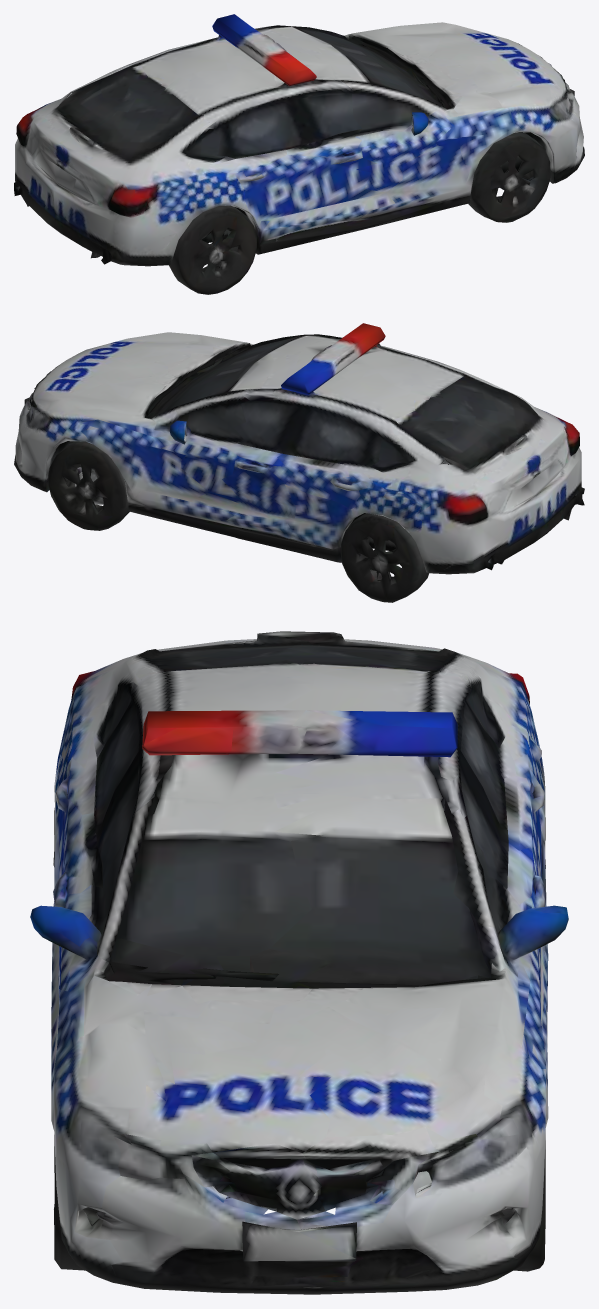
Rendered from police.glb.
3 views of the same model, one above another, from view 1: azimuth 30°, elevation 25°; view 2: azimuth 150°, elevation 25°; view 3: azimuth 270°, elevation 25° (orthographic). The views are drawn at different scales.
Parts seen in each view (by area): view 1: tripo_node_5900699e-5be6-4ba1-a8c0-c425498912b2; view 2: tripo_node_5900699e-5be6-4ba1-a8c0-c425498912b2; view 3: tripo_node_5900699e-5be6-4ba1-a8c0-c425498912b2.
Part boxes in pixels (x1,y1,x2,y2): tripo_node_5900699e-5be6-4ba1-a8c0-c425498912b2: [14, 14, 584, 294]; tripo_node_5900699e-5be6-4ba1-a8c0-c425498912b2: [14, 323, 584, 602]; tripo_node_5900699e-5be6-4ba1-a8c0-c425498912b2: [30, 631, 568, 1294].
Size of the model in its own units: 1 by 0.343 by 0.4619.
Materials: 1 (1 with a texture image).
